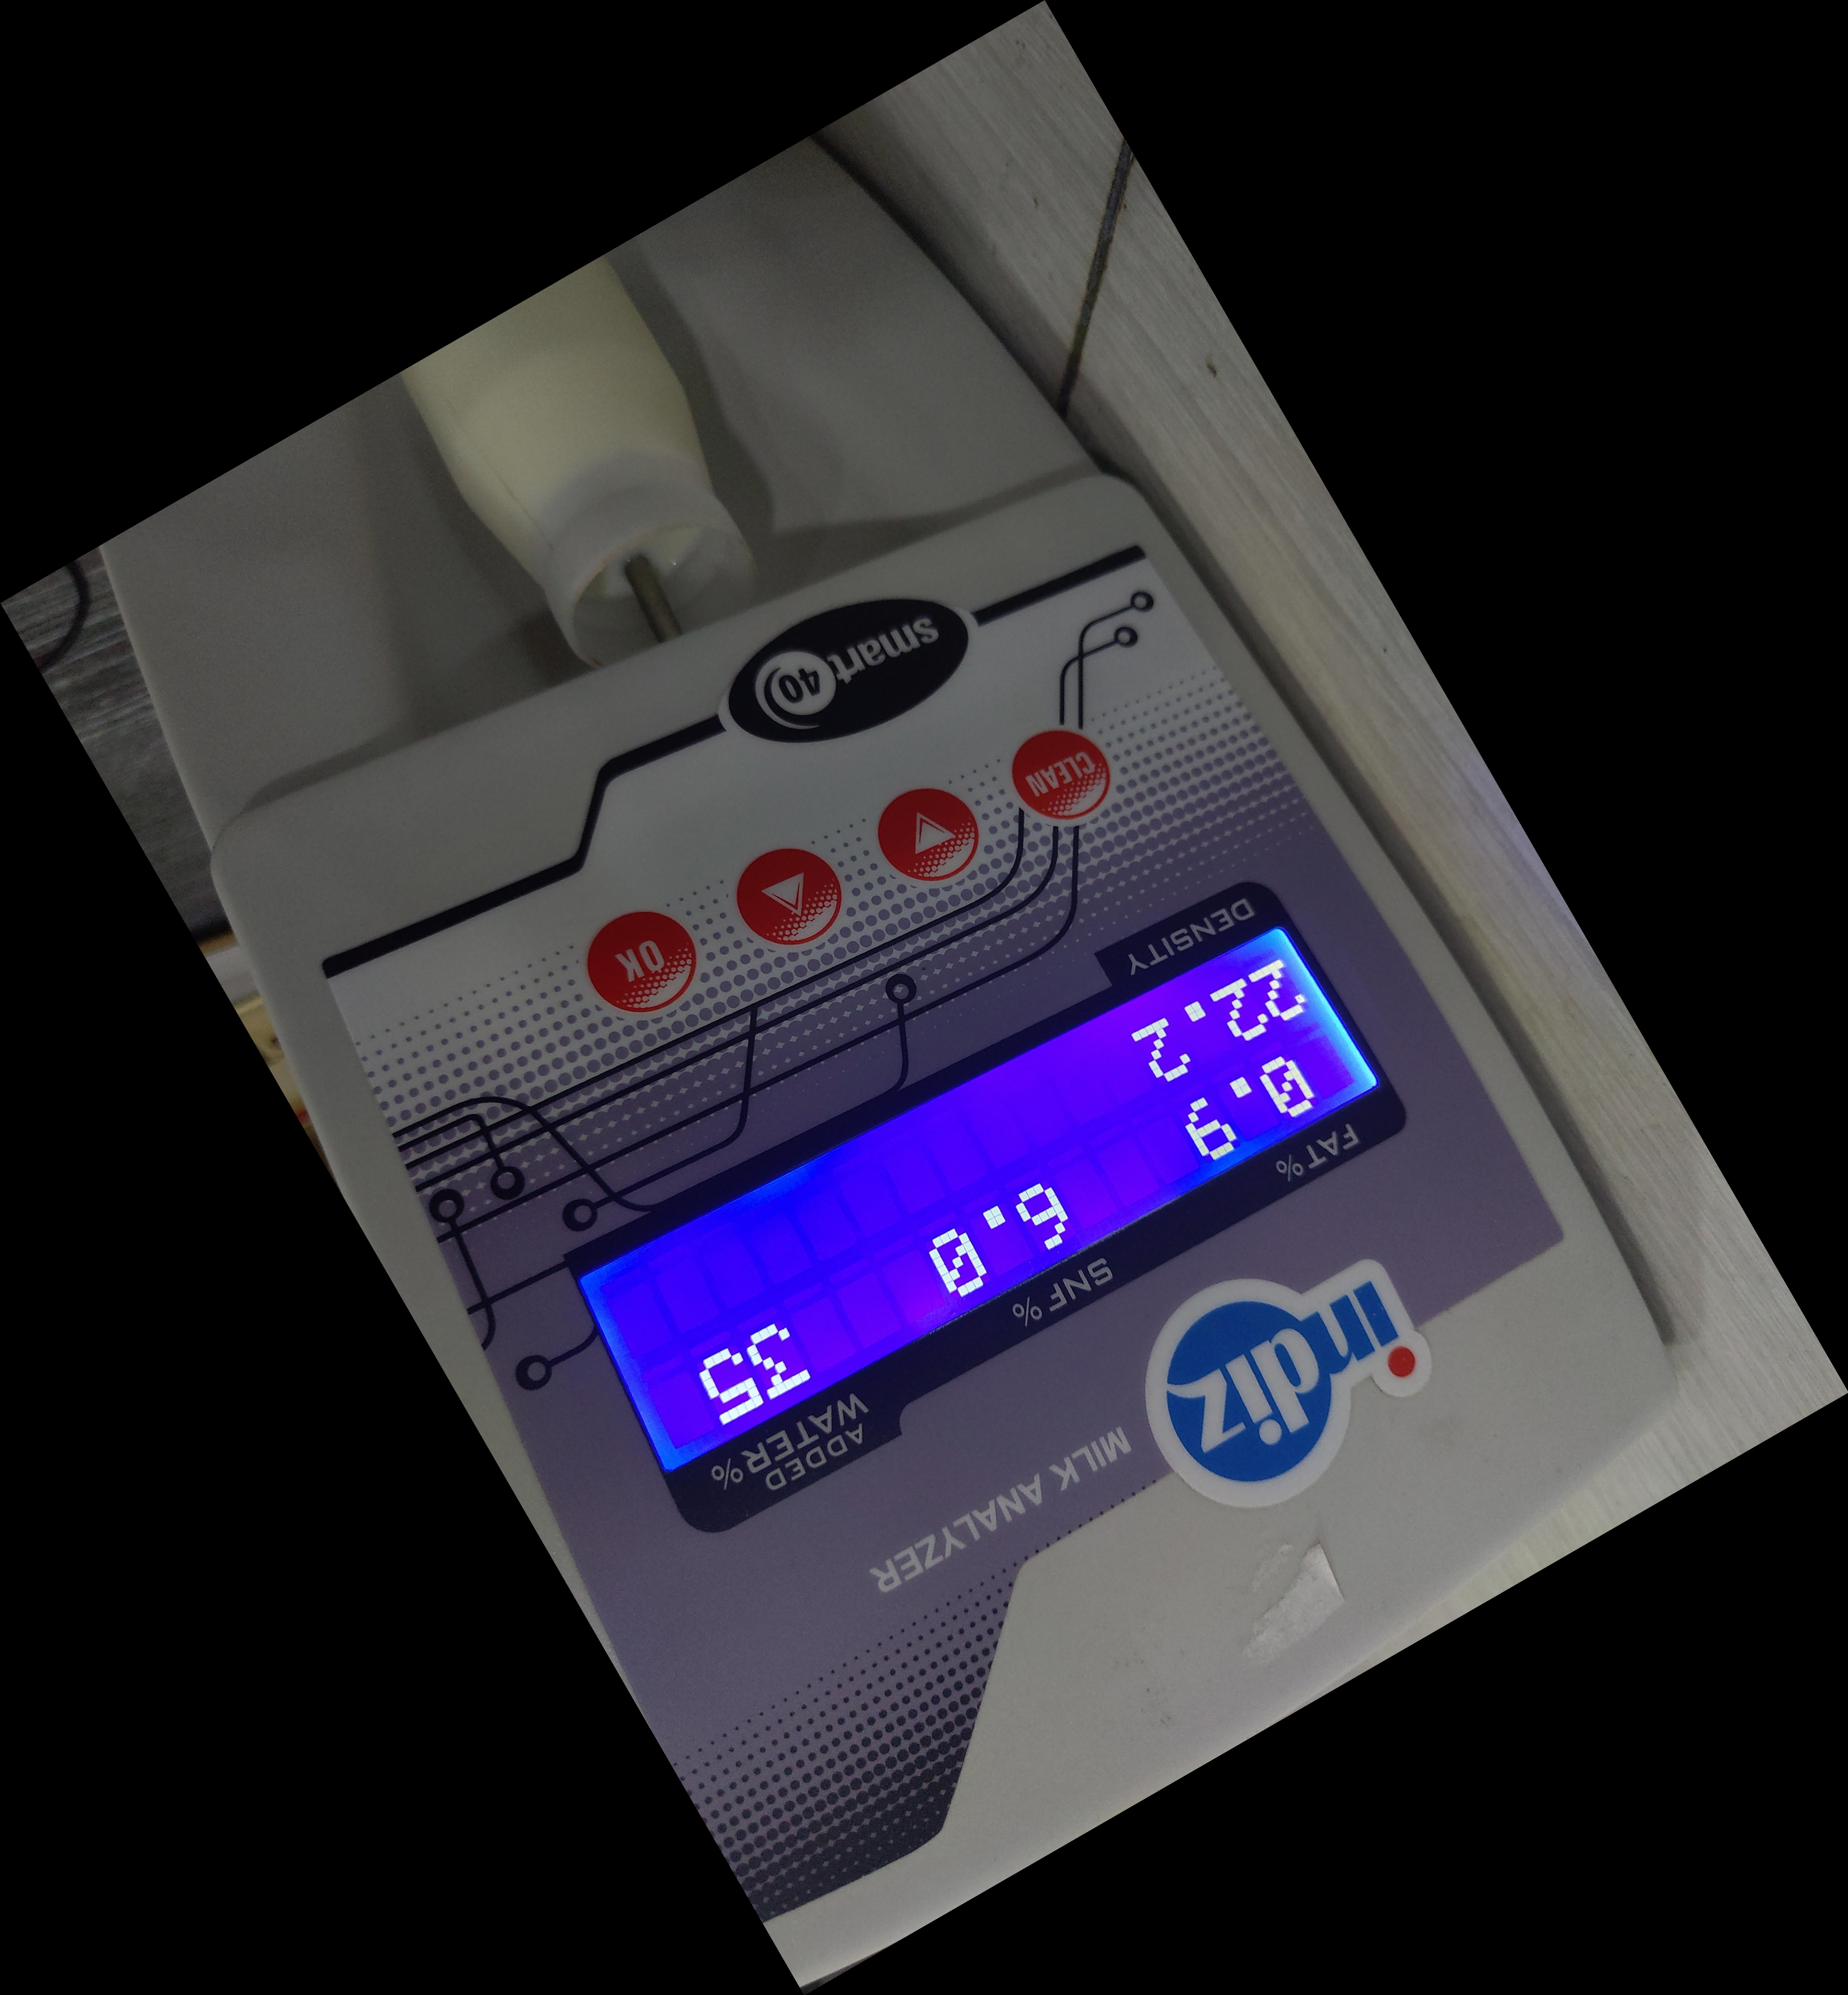lcd: (535, 869, 1441, 1519)
